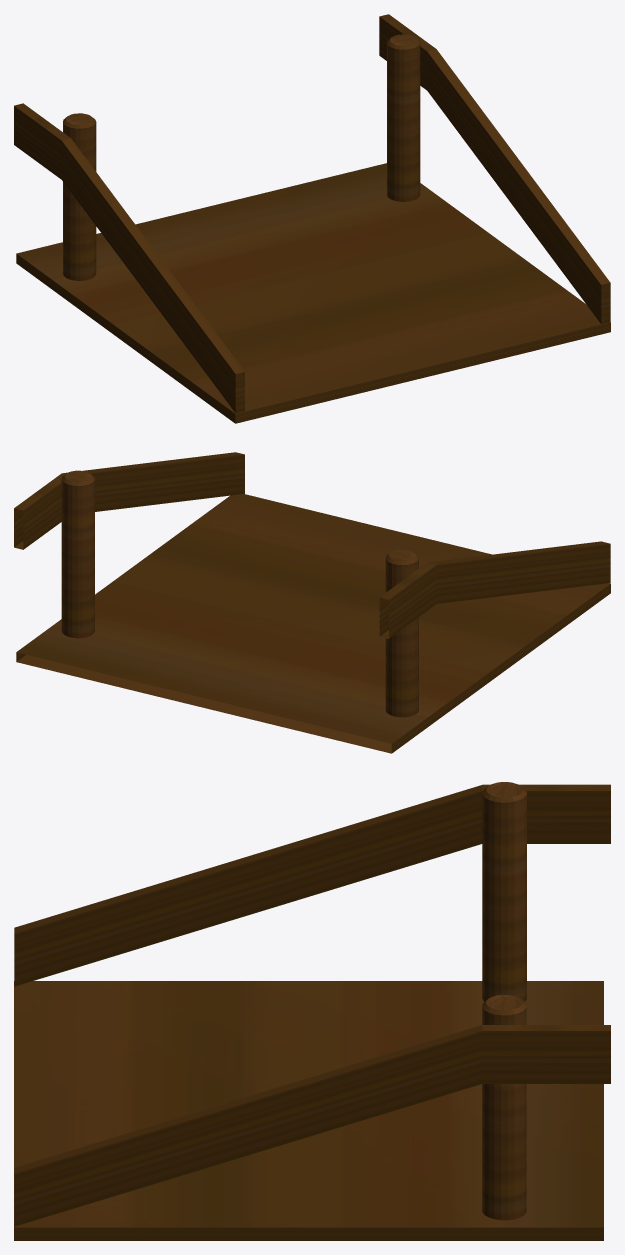
The model's file is Bridge_PartZ.FBX.
3 views of the same model, one above another, from view 1: azimuth 30°, elevation 25°; view 2: azimuth 150°, elevation 25°; view 3: azimuth 270°, elevation 25° (orthographic). The views are drawn at different scales.
Parts seen in each view (by area): view 1: Rechterkant; view 2: Rechterkant; view 3: Rechterkant.
Part boxes in pixels (x1,y1,x2,y2): Rechterkant: (14, 14, 610, 423); Rechterkant: (14, 452, 610, 753); Rechterkant: (14, 782, 610, 1240).
Bounding box in the file's own units: 1.97 × 0.8254 × 2.01.
1 material, 1 textured.
